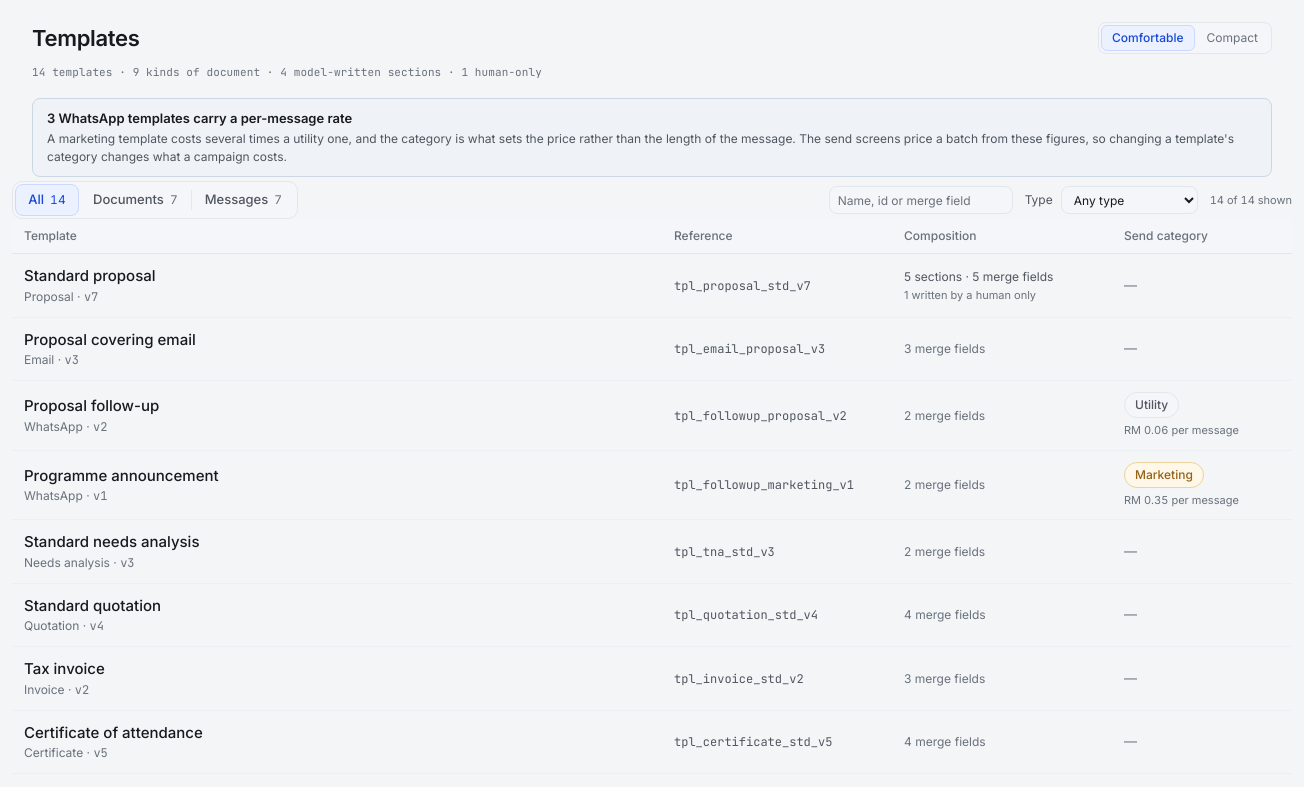
Knowledge › Templates › separates the documents that get signed from the messages that get sent
Expected: the text "Standard proposal" is shown, [24,266,156,285]
Click the tab "Messages 7" at (243, 200), box [192,184,295,216]
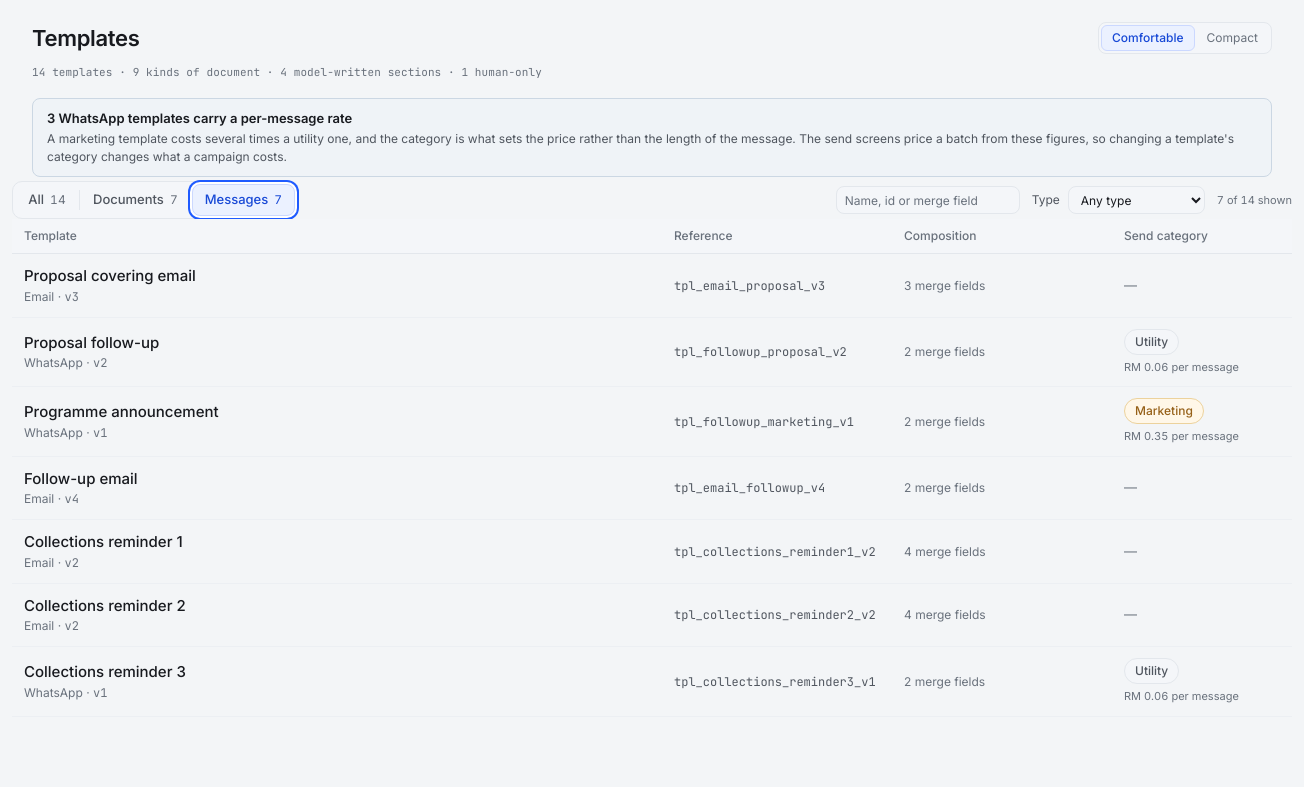
Expected: the text "Programme announcement" is shown, [24,402,219,421]
Expected: the text "Standard proposal" is gone
